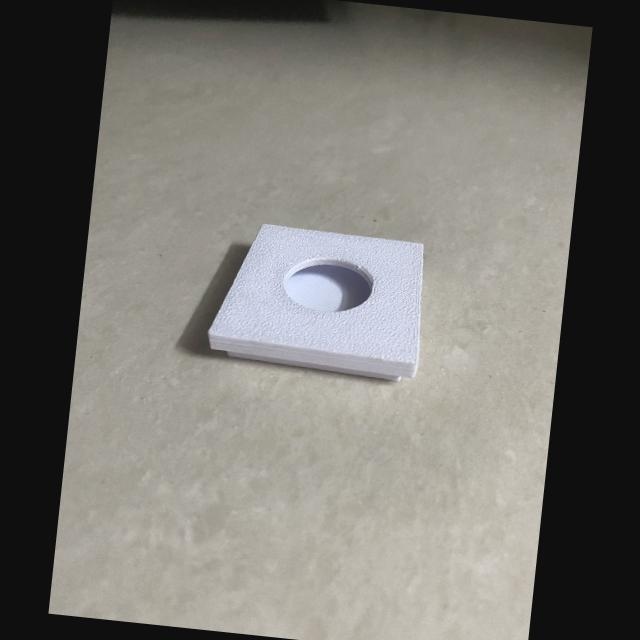RASPBERY PI CAM ENCLOSURE: (204, 218, 430, 382)
